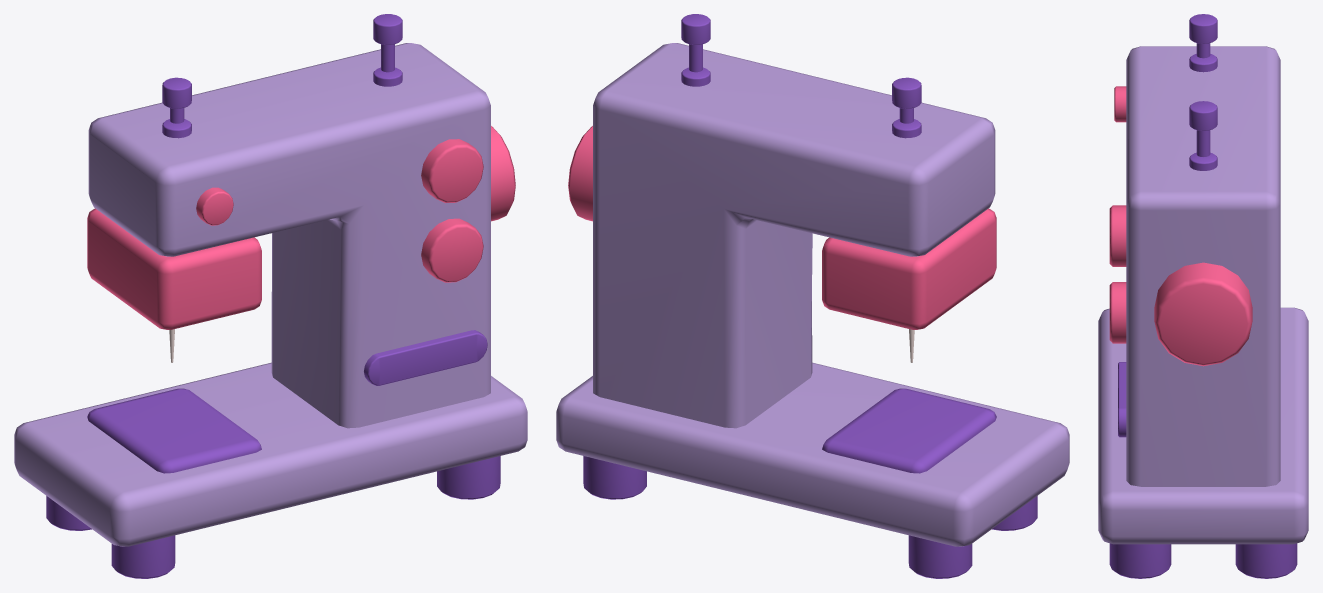
Rendered from Public_19_Sewing_machine_1.glb.
The picture shows the model from 3 angles, left to right: view 1: azimuth 30°, elevation 25°; view 2: azimuth 150°, elevation 25°; view 3: azimuth 270°, elevation 25°; orthographic projection. The views are drawn at different scales.
Parts seen in each view (by area): view 1: Public_19_Sewing_machine_1; view 2: Public_19_Sewing_machine_1; view 3: Public_19_Sewing_machine_1.
Boxes of the visible parts, x1=… form: Public_19_Sewing_machine_1: x1=14, y1=14, x2=527, y2=578; Public_19_Sewing_machine_1: x1=556, y1=14, x2=1069, y2=578; Public_19_Sewing_machine_1: x1=1098, y1=14, x2=1308, y2=578.
Bounding box in the file's own units: 1.42 × 1.44 × 0.6248.
Materials: 1 (1 with a texture image).
